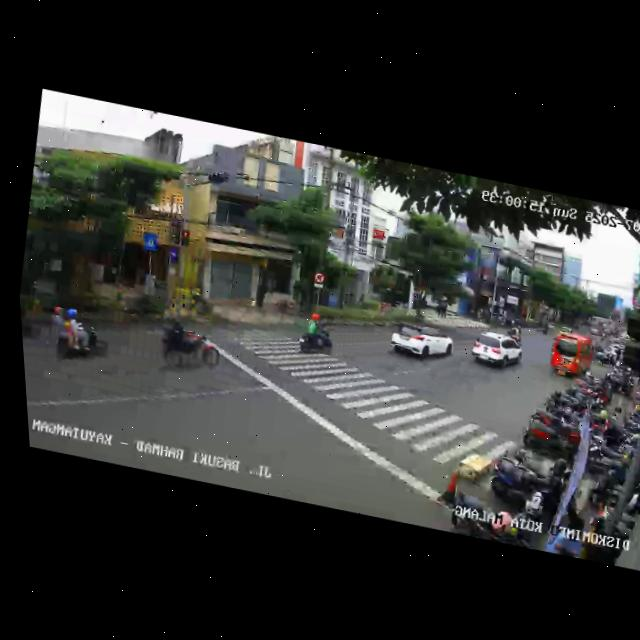car: (384, 318, 458, 370), (466, 328, 527, 376), (546, 330, 597, 383)
motorcycle: (146, 313, 221, 381), (45, 302, 111, 371), (294, 313, 339, 360)
